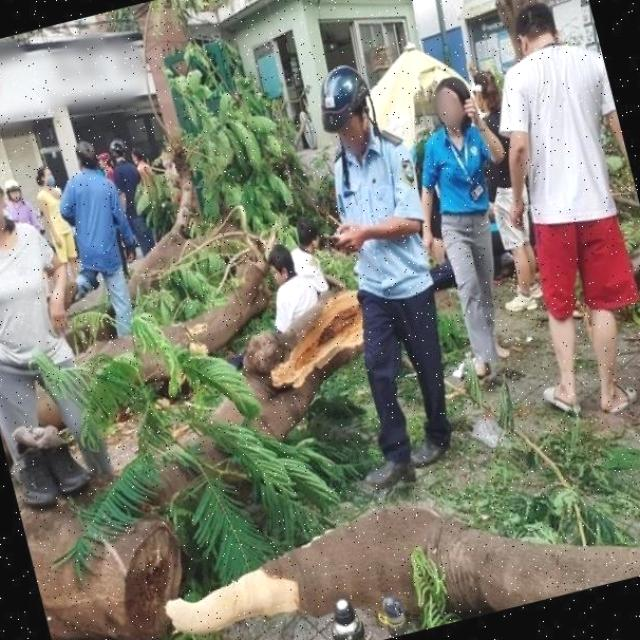fallen_object: (0, 79, 530, 640)
